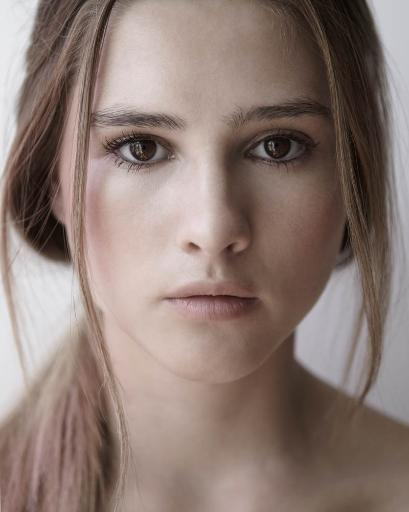left_eye: (242, 131, 318, 171)
left_lip_corner: (248, 292, 266, 310)
right_eye: (109, 133, 178, 173)
right_lip_corner: (155, 290, 177, 314)
